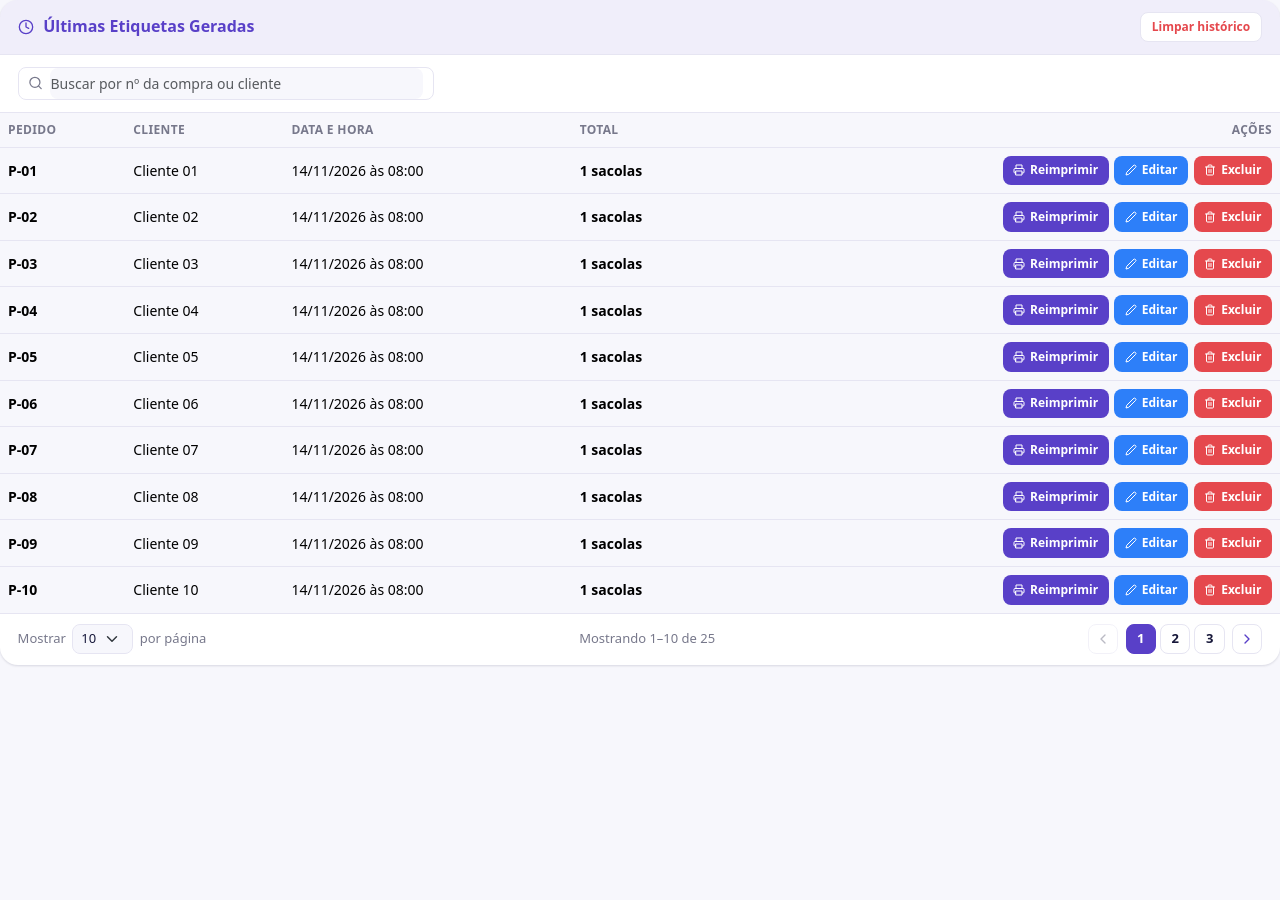
Test: HistoryTable — busca › volta para a primeira página ao alterar a busca
The width and height of the screenshot is (1280, 900).
Click the button named "Próxima página" at (1247, 639), box top-left (1232, 624), bottom-right (1262, 654)
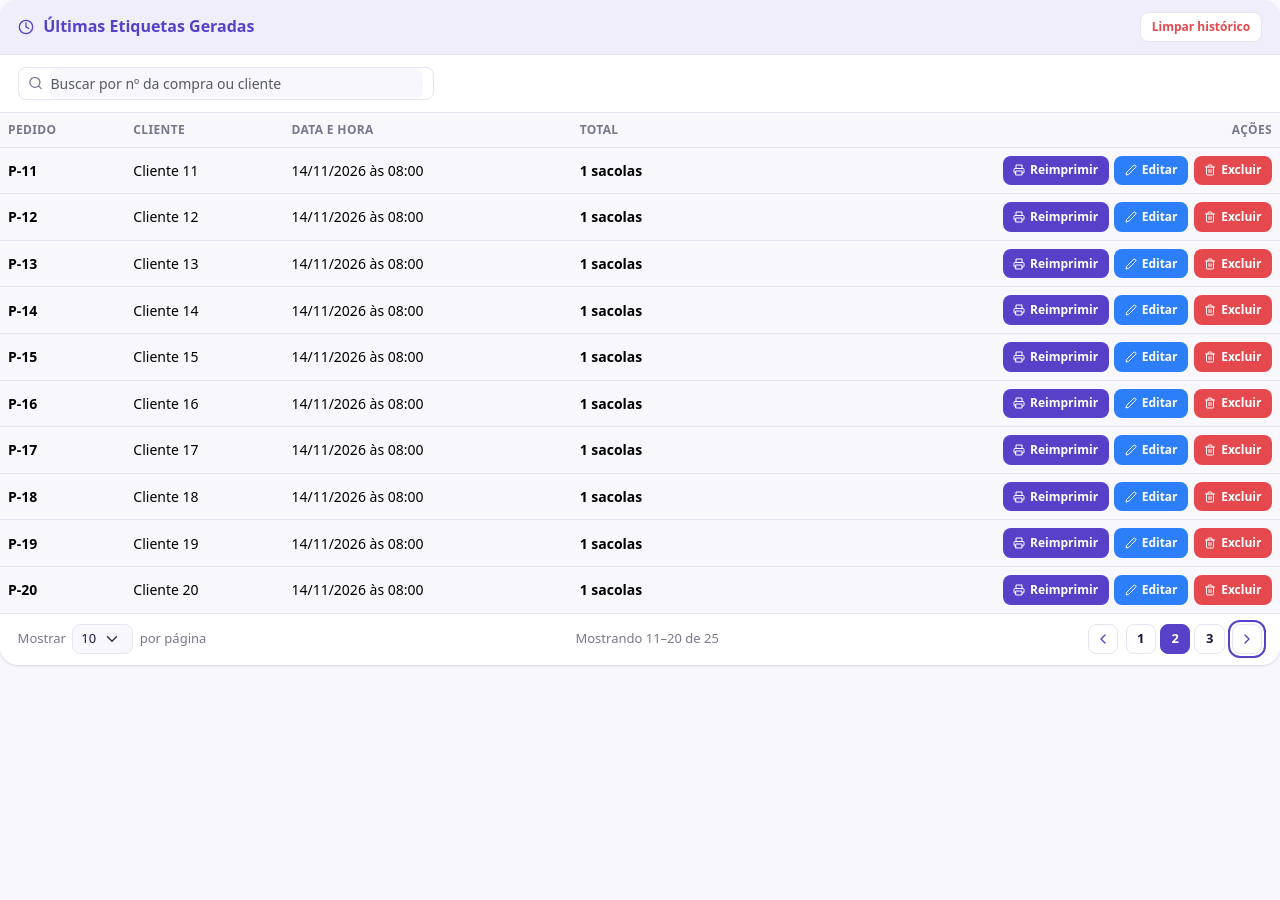
Check: the text "Mostrando 11–20 de 25" is shown, box top-left (576, 629), bottom-right (719, 649)
Type "Cliente" into the search field at (237, 83), box top-left (50, 68), bottom-right (423, 99)
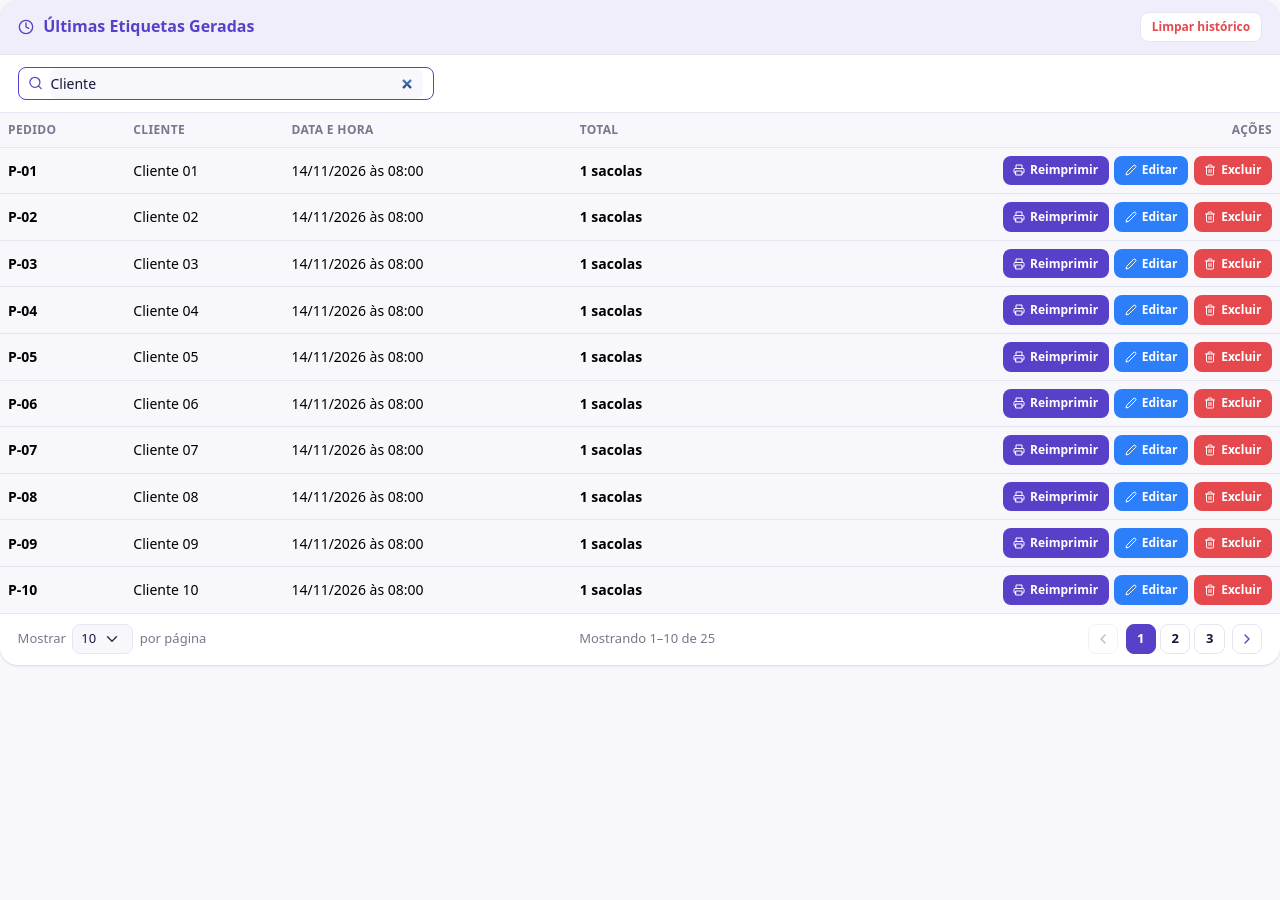
Check: the text "Mostrando 1–10 de 25" is shown, box top-left (579, 629), bottom-right (715, 649)
